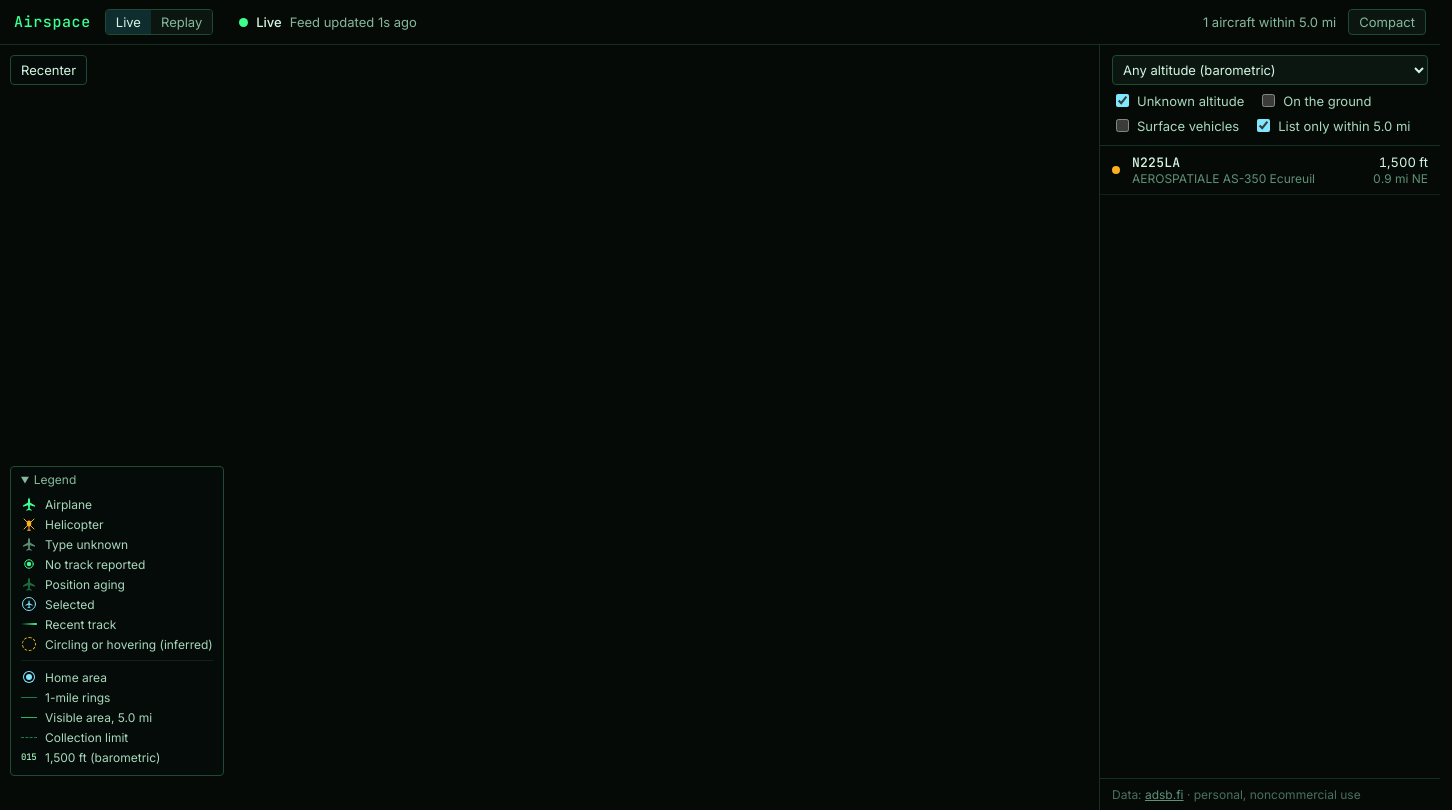
Test: App › a selected aircraft that drops out shows last seen
Click the button "N225LA AEROSPATIALE AS-350 Ecureuil 1,500 ft 0.9 mi NE" at {"x": 1270, "y": 170}, box left=1100, top=146, right=1440, bottom=195
Wait 2000 ms
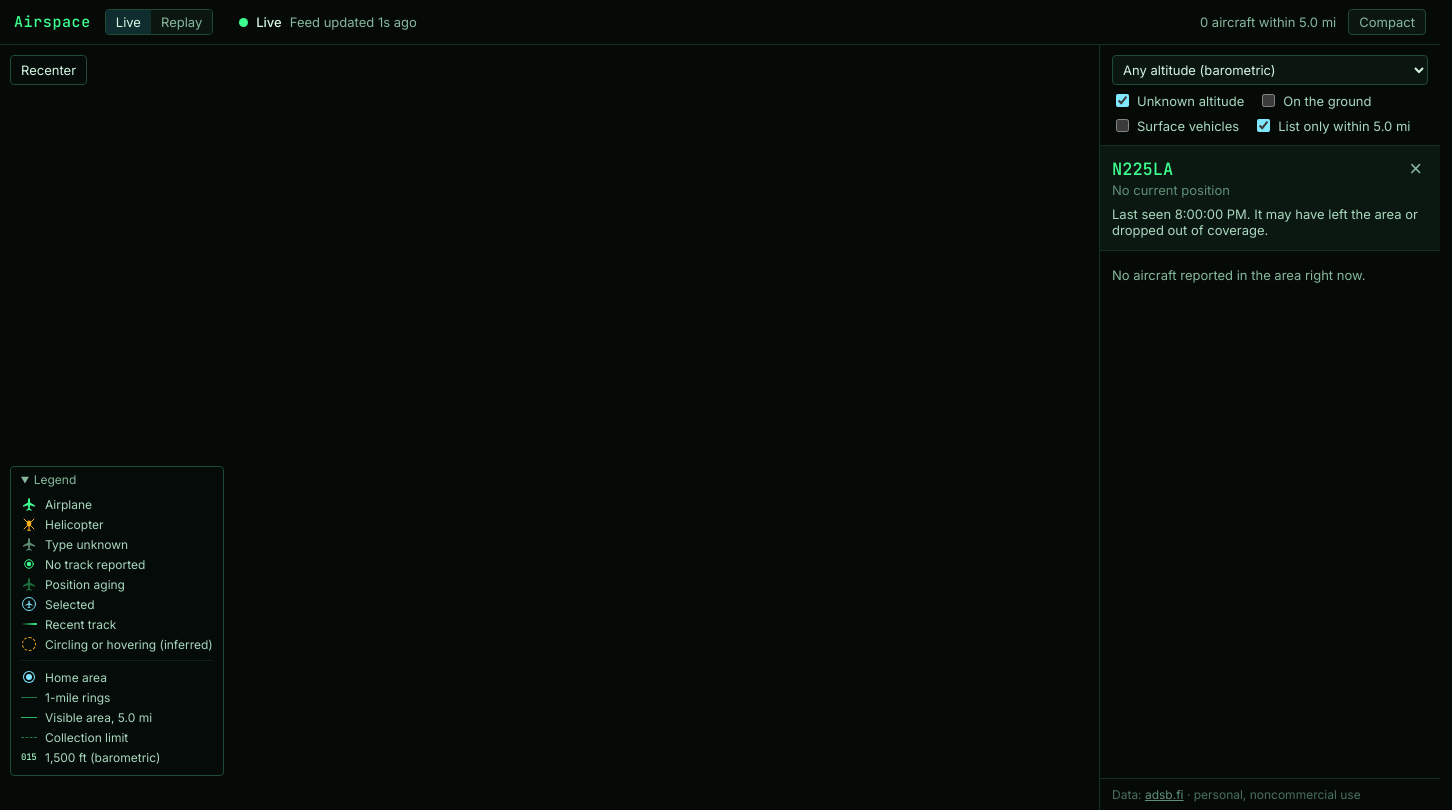
Check: the element with test id "detail" shows "No current position", box left=1112, top=182, right=1230, bottom=198
Check: the element with test id "detail" shows "Last seen", box left=1112, top=206, right=1418, bottom=238
